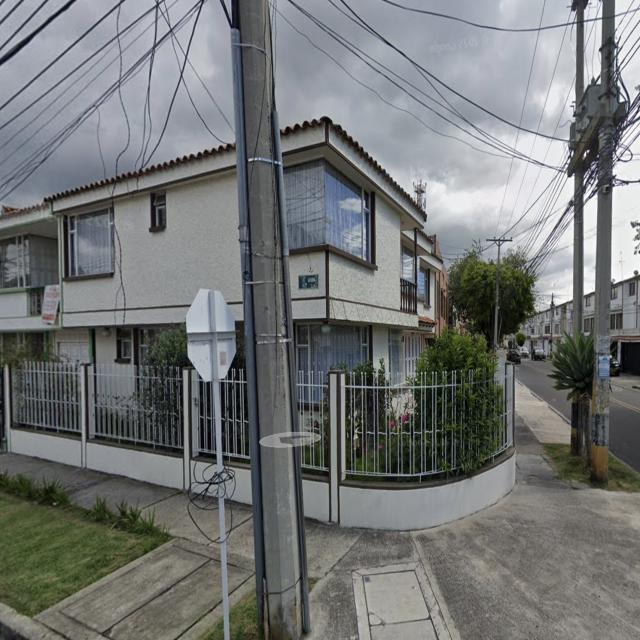Fachada: (0, 144, 243, 363), (281, 117, 444, 373)
Poste: (232, 0, 310, 638), (591, 0, 615, 483), (487, 238, 512, 352), (572, 164, 584, 333), (577, 22, 584, 100)
